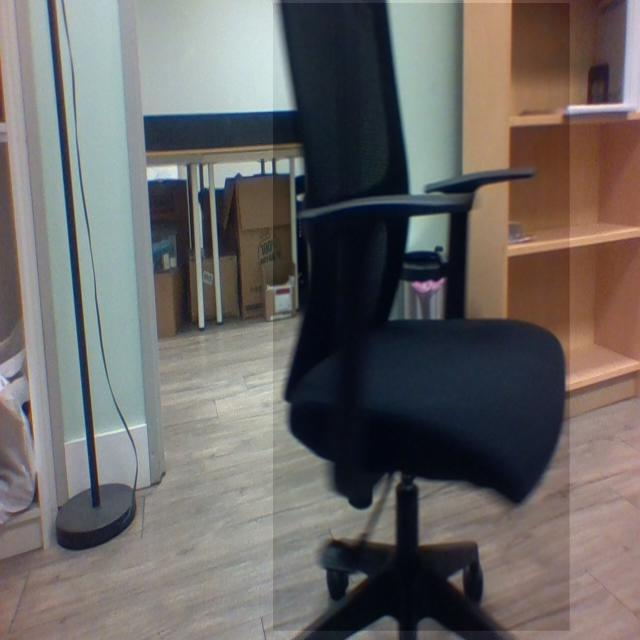black-chair: (273, 3, 571, 632)
